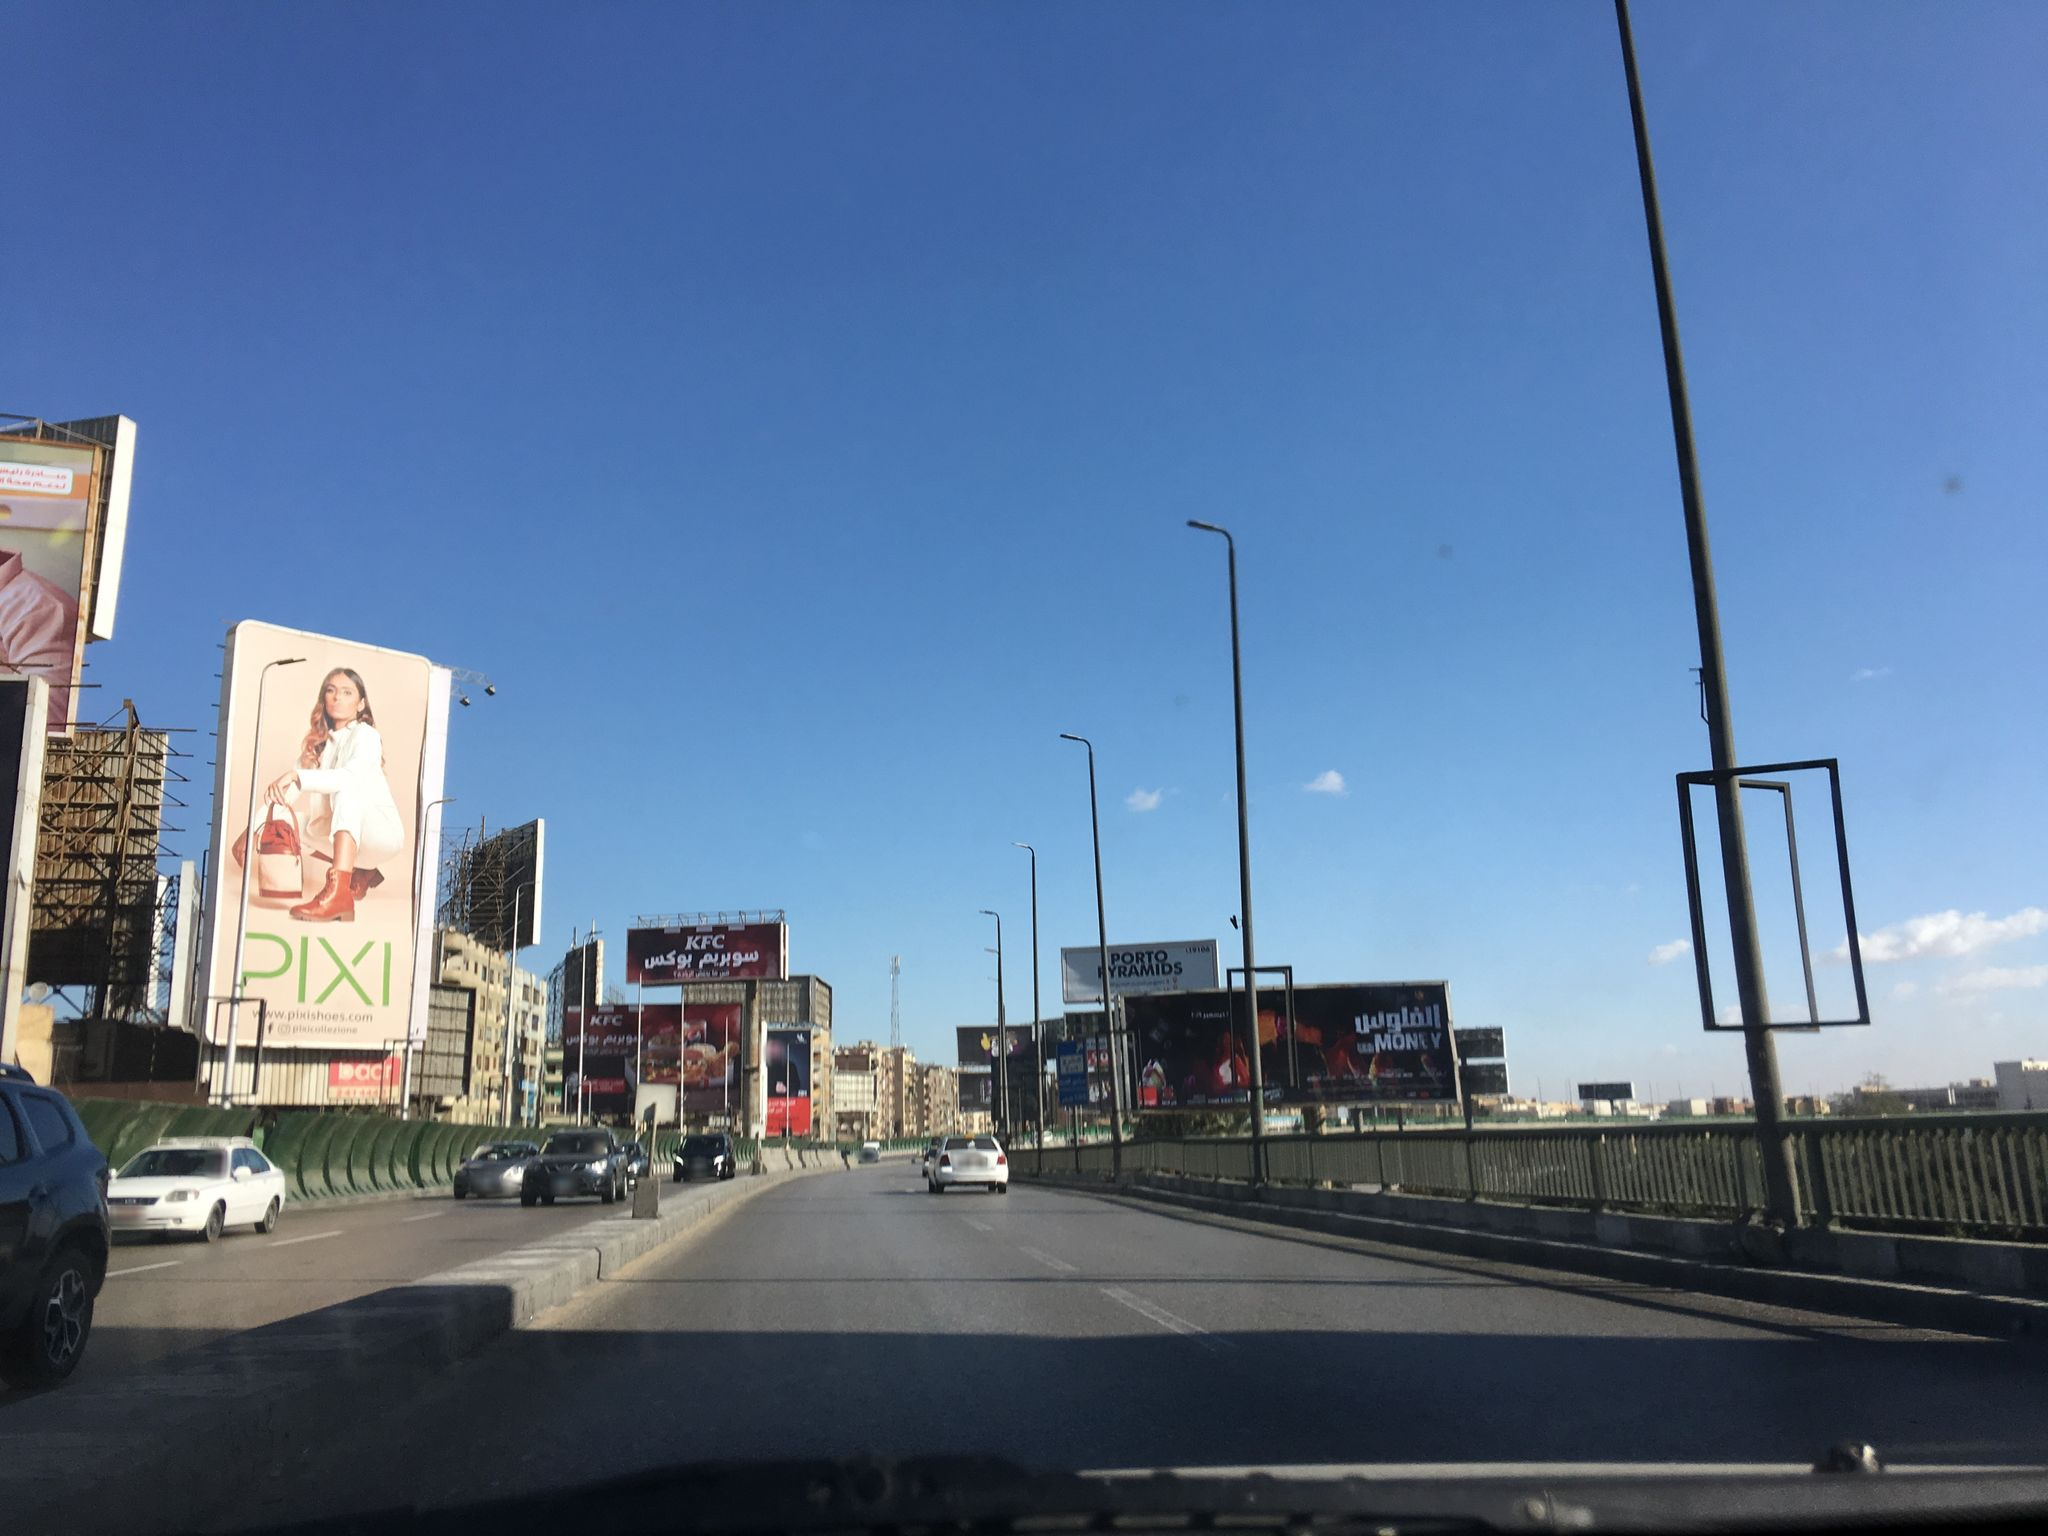car: (0, 1062, 114, 1384), (102, 1134, 289, 1242), (522, 1125, 629, 1208), (926, 1134, 1013, 1200), (452, 1141, 540, 1199), (669, 1131, 737, 1183), (618, 1142, 653, 1184)
